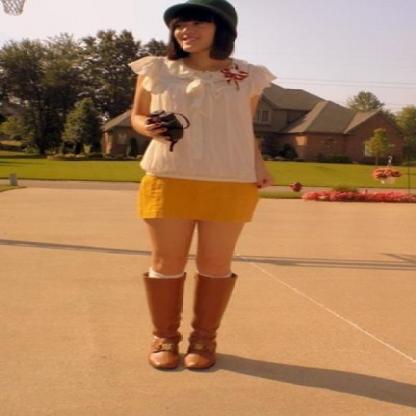bag: (148, 112, 185, 140)
hat: (169, 0, 237, 25)
shirt: (128, 55, 276, 182)
shoe: (134, 270, 236, 372)
skirt: (137, 176, 261, 222)
